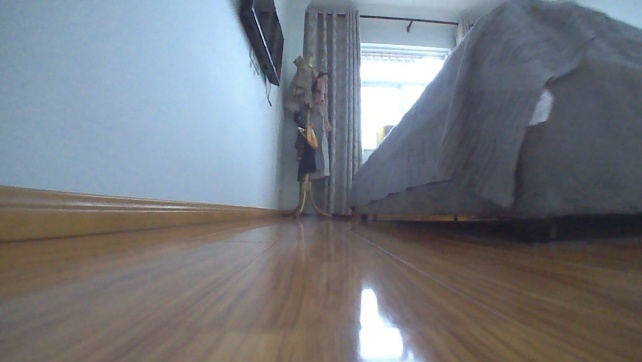bed1: (345, 0, 641, 242)
